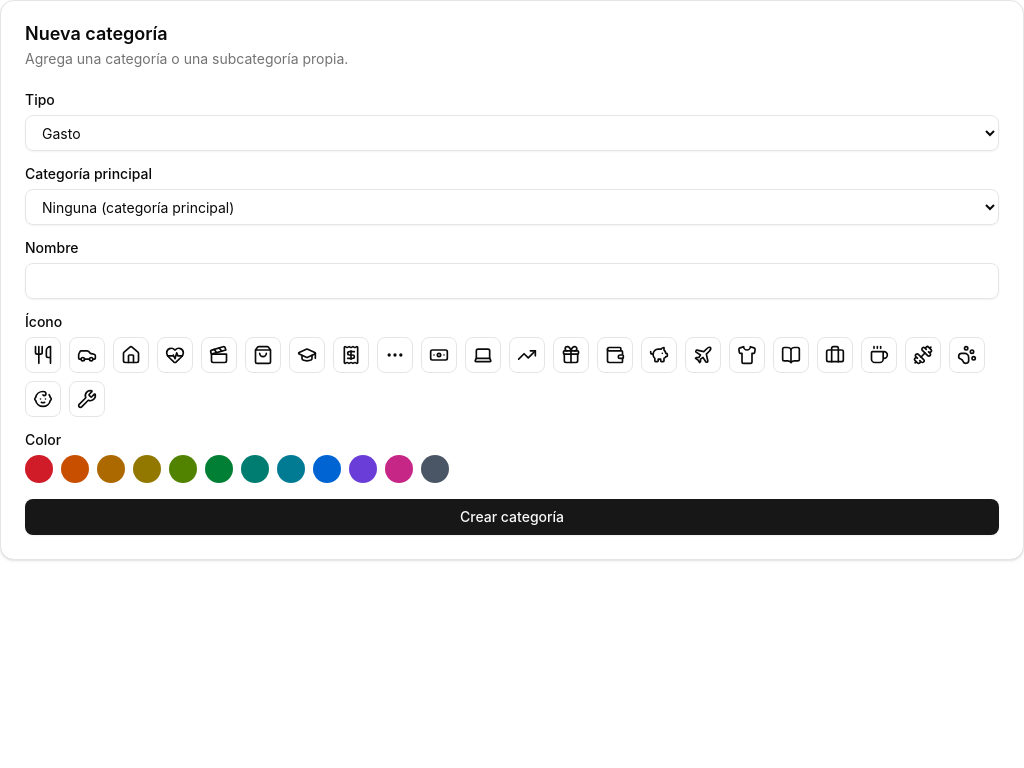
Test: CreateCategoryContainer › names each missing field, focuses the first one and sends nothing (AC-02)
Click the button "Crear categoría" at (512,517), box [25,499,999,535]
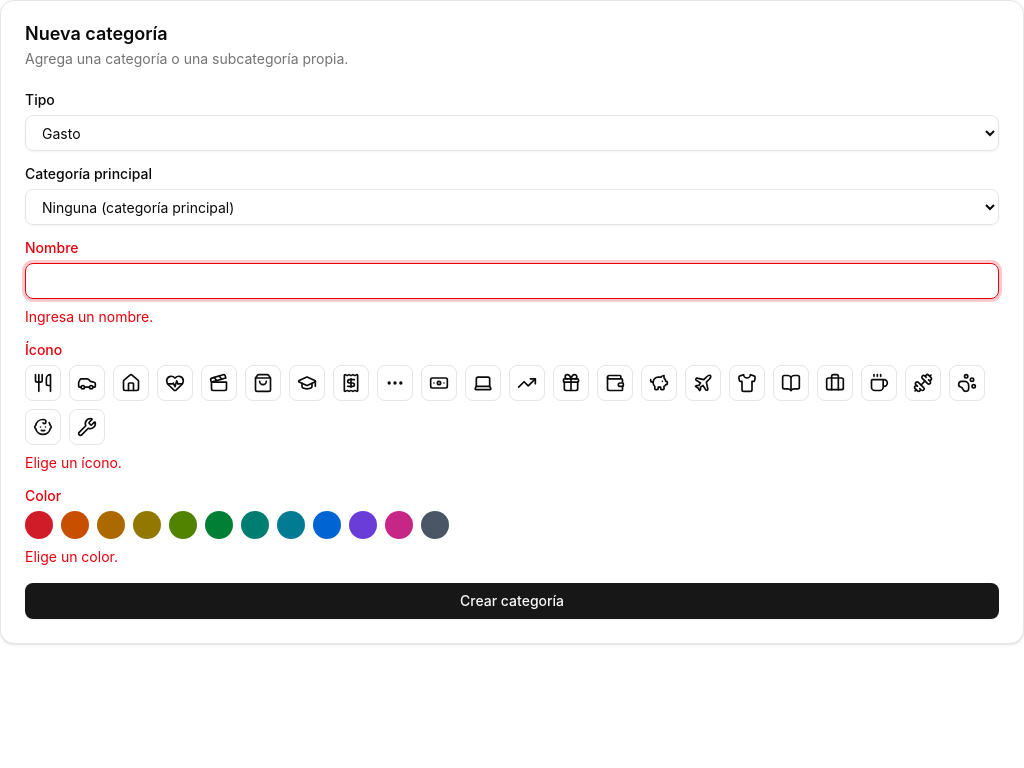
expect the text "Ingresa un nombre." is shown: met, box [25,308,153,325]
expect the text "Elige un ícono." is shown: met, box [25,454,122,471]
expect the text "Elige un color." is shown: met, box [25,548,118,565]
